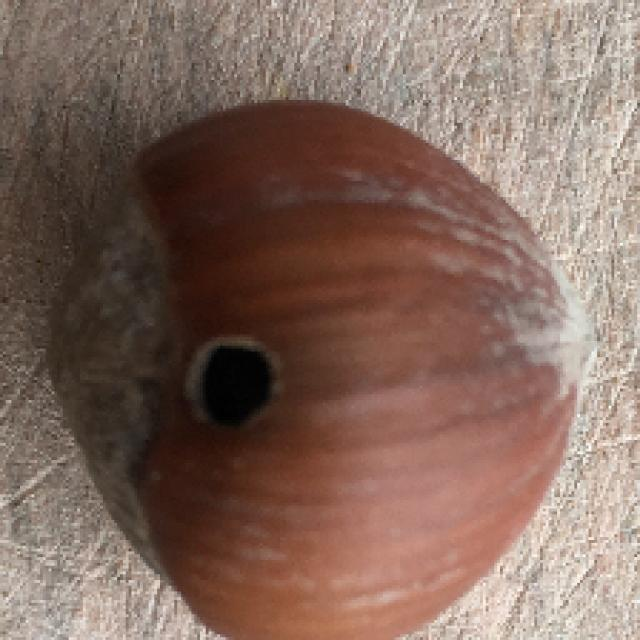damagedHazelnut: (38, 104, 590, 640)
